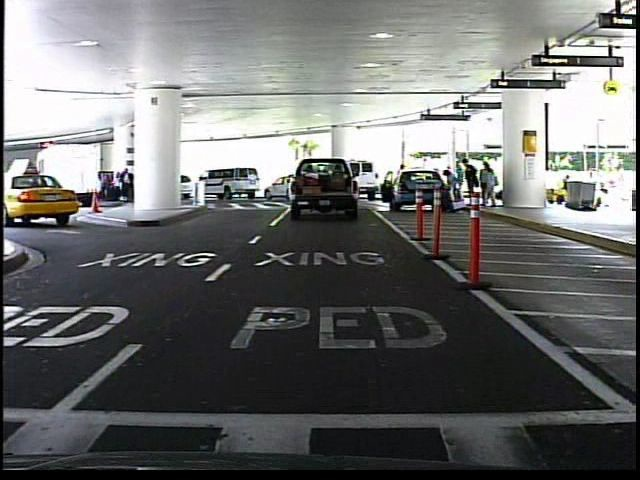person: (444, 167, 462, 217), (395, 162, 410, 203)
